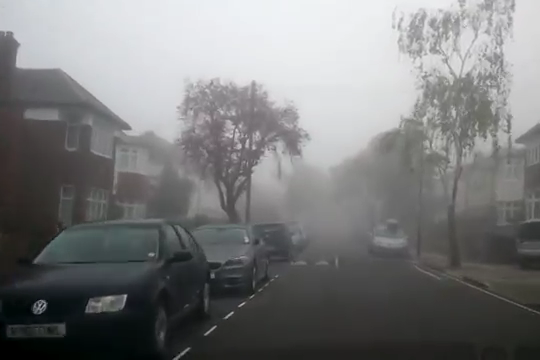car: (3, 215, 211, 360), (181, 222, 272, 295), (247, 221, 296, 263), (365, 221, 411, 258), (511, 215, 540, 269), (272, 219, 311, 252)
